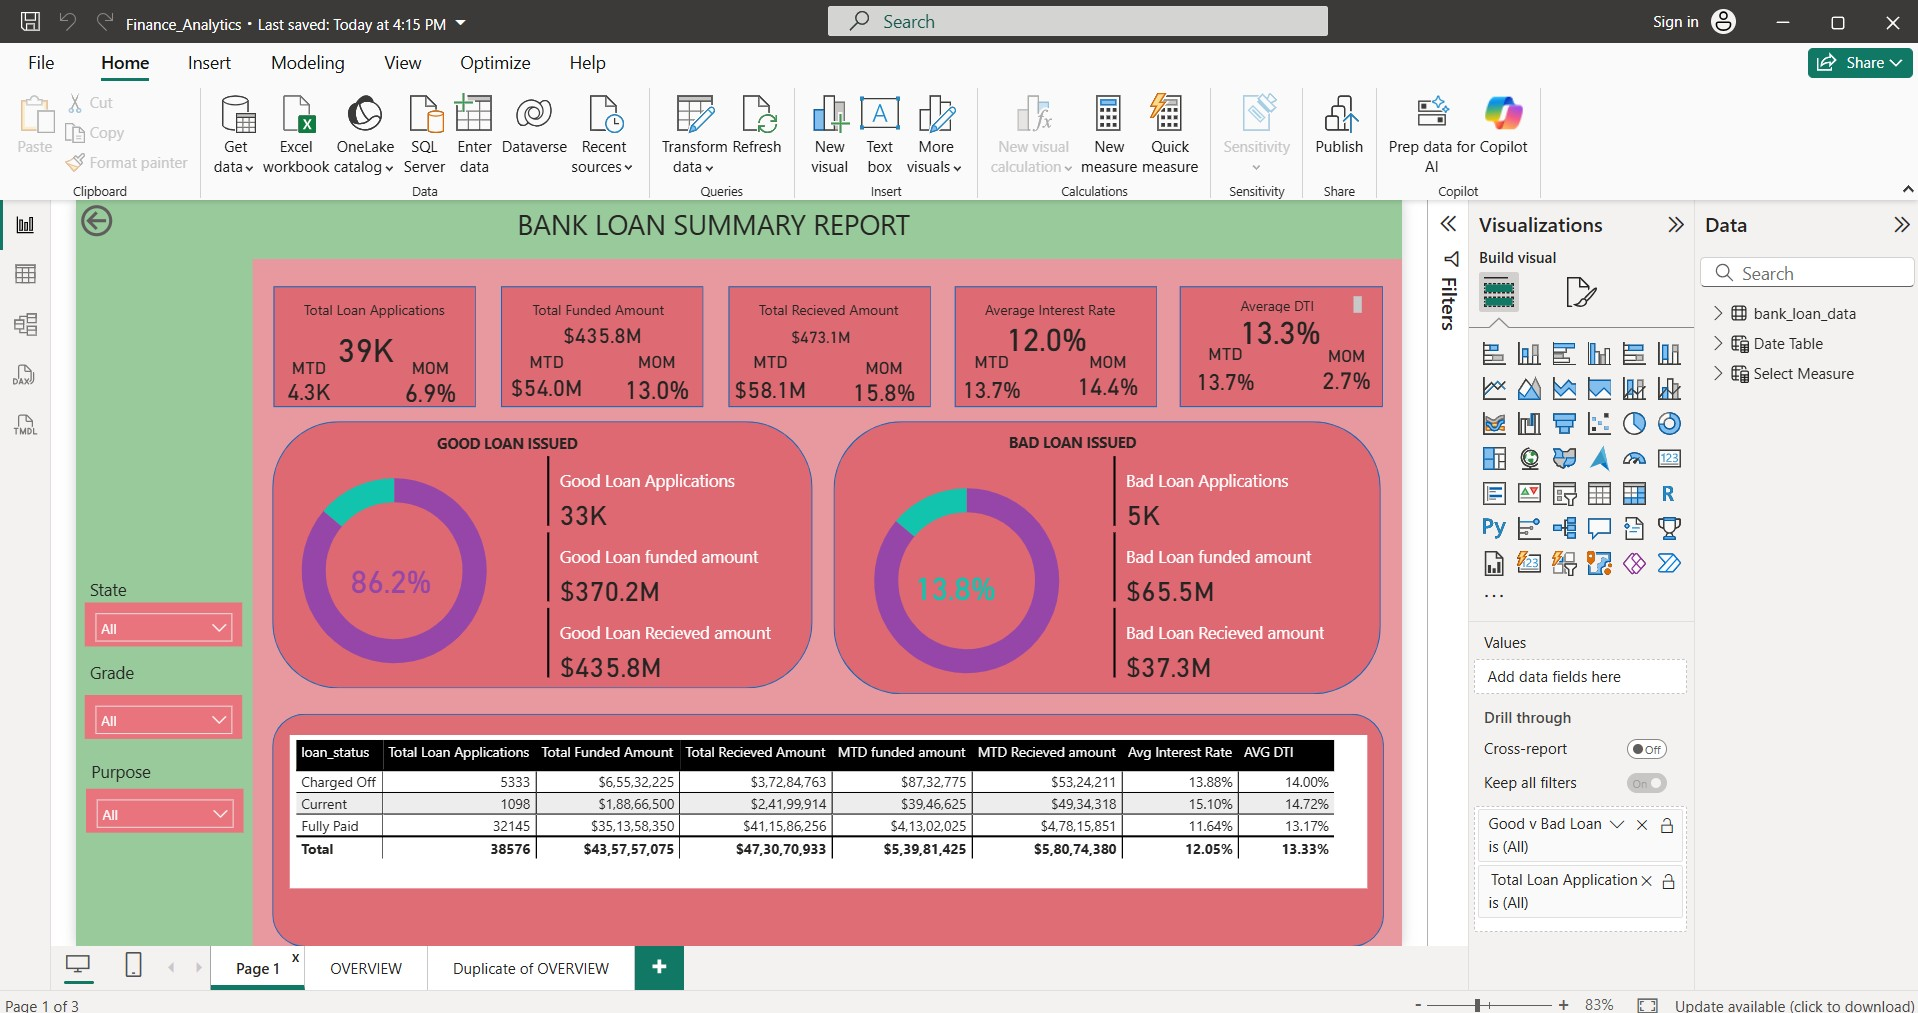

Layout of this report page (visuals, bound fields, positions):
{"tool":"powerbi","page":{"name":"Page 1","canvas":[1280,720],"ordinal":0},"visuals":[{"type":"shape","box":[411.1,83.3,195.6,116.7],"z":0,"group":"g2"},{"type":"shape","box":[629.5,83.3,195.6,116.7],"z":0,"group":"g3"},{"type":"shape","box":[847.7,83.3,195.6,116.7],"z":0,"group":"g4"},{"type":"shape","box":[191.1,83.5,195.6,116.7],"z":0,"group":"g1"},{"type":"shape","box":[1065.8,83.5,196.2,116.6],"z":0,"group":"g5"},{"type":"shape","box":[189.4,214.1,521.4,258],"z":0},{"type":"shape","box":[0,0,1280,56.7],"z":1000},{"type":"card","fields":{"Values":["Date Table.Total Funded Amount"]},"box":[459,102.9,100.2,56.3],"z":1000,"group":"g2"},{"type":"card","fields":{"Values":["Date Table.AVG DTI"]},"box":[1113.7,104.3,97.4,45.3],"z":1000,"group":"g5"},{"type":"card","fields":{"Values":["Date Table.Total Recieved Amount"]},"box":[684.1,111.1,70,45.3],"z":1000,"group":"g3"},{"type":"card","fields":{"Values":["Date Table.Avg Interest Rate"]},"box":[887.4,111.1,97.4,45.3],"z":1000,"group":"g4"},{"type":"card","fields":{"Values":["Date Table.Total Loan Applications"]},"box":[245.6,120.8,70,45.3],"z":1000,"group":"g1"},{"type":"textbox","box":[1081.2,88.2,164.7,26.1],"z":2000,"group":"g5"},{"type":"textbox","box":[435.5,91.8,161.9,28.8],"z":2000,"group":"g2"},{"type":"textbox","box":[653.8,91.8,161.9,28.8],"z":2000,"group":"g3"},{"type":"textbox","box":[872,91.8,161.9,28.8],"z":2000,"group":"g4"},{"type":"textbox","box":[215.4,92,161.9,28.8],"z":2000,"group":"g1"},{"type":"donutChart","title":"GOOD LOAN ISSUED","fields":{"Category":["bank_loan_data.Good v Bad Loan"],"Y":["Date Table.Total Loan Applications"]},"box":[190.7,220.9,233.3,274.4],"z":2000},{"type":"shape","box":[0,56.7,170,663.3],"z":3000},{"type":"card","title":"MTD","fields":{"Values":["Date Table.MTD Avg DTI"]},"box":[1073.9,138.6,71.4,54.9],"z":3000,"group":"g5"},{"type":"card","title":"MTD","fields":{"Values":["Date Table.MTD funded amount"]},"box":[409.5,145.5,90.6,52.1],"z":3000,"group":"g2"},{"type":"card","title":"MTD","fields":{"Values":["Date Table.MTD Recieved amount"]},"box":[629.3,145.5,81,54.9],"z":3000,"group":"g3"},{"type":"card","title":"MTD","fields":{"Values":["Date Table.MTD Avg Int Rate"]},"box":[847.6,145.5,71.4,54.9],"z":3000,"group":"g4"},{"type":"card","title":"MTD","fields":{"Values":["Date Table.MTD Loan Apllications"]},"box":[190.7,152.4,68.6,48],"z":3000,"group":"g1"},{"type":"card","title":"MOM","fields":{"Values":["Date Table.MOM Avg DTI"]},"box":[1190.9,140.3,71.4,48],"z":4000,"group":"g5"},{"type":"card","title":"MOM","fields":{"Values":["Date Table.MOM Total Funded Amount"]},"box":[523.9,145.5,74.1,54.9],"z":4000,"group":"g2"},{"type":"card","title":"MOM","fields":{"Values":["Date Table.MOM Avg Int Rate"]},"box":[960,145.5,71.4,48],"z":4000,"group":"g4"},{"type":"card","title":"MOM","fields":{"Values":["Date Table.MOM Total Recieved Amount"]},"box":[744.4,152.2,71.4,48],"z":4000,"group":"g3"},{"type":"card","title":"MOM","fields":{"Values":["Date Table.MOM Loan Applications"]},"box":[306,152.4,71.4,48],"z":4000,"group":"g1"},{"type":"textbox","box":[306,220.9,219.6,37],"z":4000},{"type":"group","id":"g1","title":"Group 1","box":[190.7,83.5,196.2,116.6],"z":5000},{"type":"card","fields":{"Values":["Date Table.Good Loan %"]},"box":[259.3,343.1,89.2,48],"z":6000},{"type":"group","id":"g2","title":"Group 1","box":[409.5,83.3,197.2,117],"z":7000},{"type":"group","id":"g3","title":"Group 1","box":[629.3,83.3,195.7,117],"z":8000},{"type":"group","id":"g4","title":"Group 1","box":[847.6,83.3,195.6,117],"z":9000},{"type":"group","id":"g5","title":"Group 1","box":[1065.8,83.5,196.5,116.6],"z":10000},{"type":"actionButton","box":[0,0,100,40],"z":11000},{"type":"cardVisual","fields":{"Data":["Date Table.Goodd Loan Applications","Date Table.Good Loan funded amount1","Date Table.Good Loan Recieved amount"]},"box":[450.1,242.9,251.1,223.7],"z":12000},{"type":"shape","box":[731.4,214.1,528.3,263.5],"z":13000},{"type":"textbox","box":[854.9,219.6,212.7,39.8],"z":14000},{"type":"donutChart","title":"GOOD LOAN ISSUED","fields":{"Category":["bank_loan_data.Good v Bad Loan"],"Y":["Date Table.Total Loan Applications"]},"box":[743.7,230.5,233.3,274.4],"z":15000},{"type":"card","fields":{"Values":["Date Table.Bad Loan %"]},"box":[794.5,354,107,41.2],"z":16000},{"type":"cardVisual","fields":{"Data":["Date Table.Good Loan Applications","Date Table.Bad Loan funded amount","Date Table.Bad Loan Recieved amount"]},"box":[996.2,242.9,251.1,223.7],"z":17000},{"type":"shape","box":[189.4,495.4,1073.1,225],"z":18000},{"type":"tableEx","fields":{"Values":["bank_loan_data.loan_status","Date Table.Total Loan Applications","Date Table.Total Funded Amount","Date Table.Total Recieved Amount","Date Table.MTD funded amount","Date Table.MTD Recieved amount","Date Table.Avg Interest Rate","Date Table.AVG DTI"]},"box":[205.8,516,1040.1,148.2],"z":19000},{"type":"slicer","fields":{"Values":["bank_loan_data.address_state"]},"box":[8.2,388.3,152.3,42.5],"z":20000},{"type":"slicer","fields":{"Values":["bank_loan_data.grade"]},"box":[8.2,477.5,152.3,42.5],"z":21000},{"type":"slicer","fields":{"Values":["bank_loan_data.purpose"]},"box":[9.6,568.1,152.3,42.5],"z":22000},{"type":"textbox","box":[8.2,359.5,53.5,54.9],"z":23000},{"type":"textbox","box":[8.2,440.5,53.5,54.9],"z":24000},{"type":"textbox","box":[9.6,535.2,75.5,54.9],"z":25000},{"type":"textbox","box":[370.5,0,489.9,56.3],"z":26000}]}

Visuals, with their boxes on the page's 1280x720 design canvas (x1, y1, x2, y2). These are canvas units, not pixel positions in the 1918x1013 screenshot, which may show the page scaled, cropped or inside an application window:
shape: 411 83 607 200
shape: 630 83 825 200
shape: 848 83 1043 200
shape: 191 84 387 200
shape: 1066 84 1262 200
shape: 189 214 711 472
shape: 0 0 1280 57
card - Date Table.Total Funded Amount: 459 103 559 159
card - Date Table.AVG DTI: 1114 104 1211 150
card - Date Table.Total Recieved Amount: 684 111 754 156
card - Date Table.Avg Interest Rate: 887 111 985 156
card - Date Table.Total Loan Applications: 246 121 316 166
textbox: 1081 88 1246 114
textbox: 436 92 597 121
textbox: 654 92 816 121
textbox: 872 92 1034 121
textbox: 215 92 377 121
"GOOD LOAN ISSUED" donutChart: 191 221 424 495
shape: 0 57 170 720
"MTD" card: 1074 139 1145 194
"MTD" card: 410 146 500 198
"MTD" card: 629 146 710 200
"MTD" card: 848 146 919 200
"MTD" card: 191 152 259 200
"MOM" card: 1191 140 1262 188
"MOM" card: 524 146 598 200
"MOM" card: 960 146 1031 194
"MOM" card: 744 152 816 200
"MOM" card: 306 152 377 200
textbox: 306 221 526 258
"Group 1" group: 191 84 387 200
card - Date Table.Good Loan %: 259 343 348 391
"Group 1" group: 410 83 607 200
"Group 1" group: 629 83 825 200
"Group 1" group: 848 83 1043 200
"Group 1" group: 1066 84 1262 200
actionButton: 0 0 100 40
cardVisual - Date Table.Goodd Loan Applications x Date Table.Good Loan funded amount1: 450 243 701 467
shape: 731 214 1260 478
textbox: 855 220 1068 259
"GOOD LOAN ISSUED" donutChart: 744 230 977 505
card - Date Table.Bad Loan %: 794 354 902 395
cardVisual - Date Table.Good Loan Applications x Date Table.Bad Loan funded amount: 996 243 1247 467
shape: 189 495 1262 720
tableEx - bank_loan_data.loan_status x Date Table.Total Loan Applications: 206 516 1246 664
slicer - bank_loan_data.address_state: 8 388 160 431
slicer - bank_loan_data.grade: 8 478 160 520
slicer - bank_loan_data.purpose: 10 568 162 611
textbox: 8 360 62 414
textbox: 8 440 62 495
textbox: 10 535 85 590
textbox: 370 0 860 56
